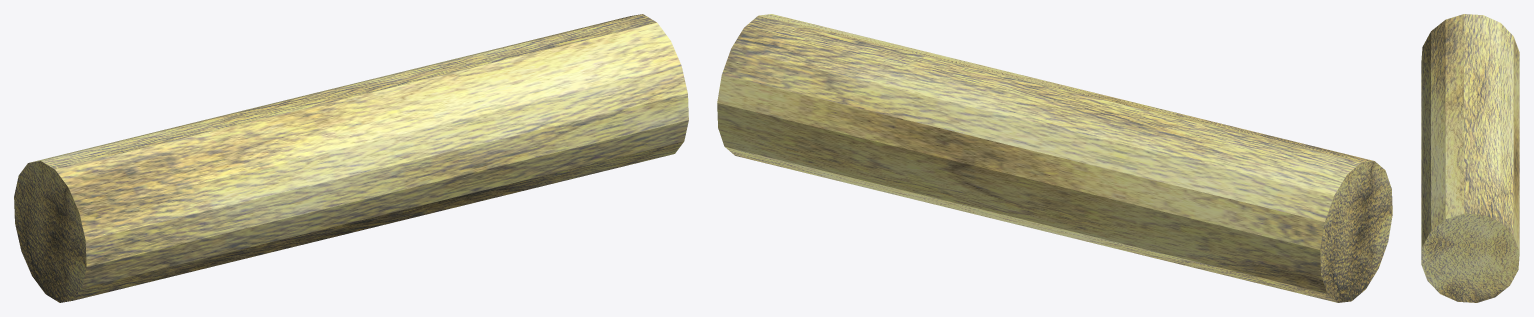
File: joint_mini.dae
3 renders of one model, left to right at view 1: azimuth 30°, elevation 25°; view 2: azimuth 150°, elevation 25°; view 3: azimuth 270°, elevation 25°, orthographic. The views are drawn at different scales.
Visible parts, largest first — view 1: Metatarsus_Joint; view 2: Metatarsus_Joint; view 3: Metatarsus_Joint.
Boxes of the visible parts, x1=… form: Metatarsus_Joint: x1=14, y1=14, x2=688, y2=302; Metatarsus_Joint: x1=717, y1=14, x2=1392, y2=302; Metatarsus_Joint: x1=1421, y1=14, x2=1519, y2=302.
Size of the model in its own units: 0.152 by 0.0317 by 0.0317.
Materials: 1 (1 with a texture image).
